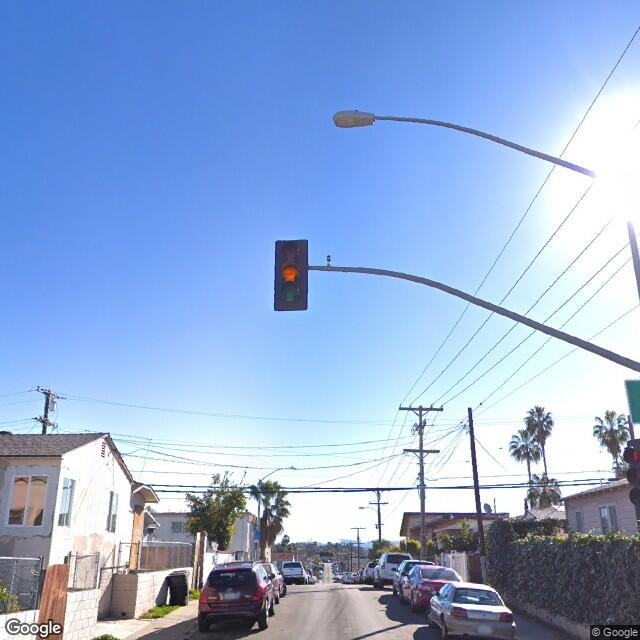light: (332, 109, 377, 132)
window: (10, 470, 46, 537), (594, 501, 621, 536), (61, 474, 73, 528)
